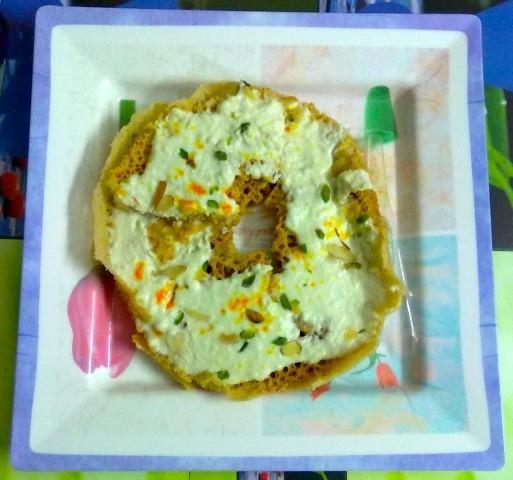Ghevar: (94, 80, 407, 397)
